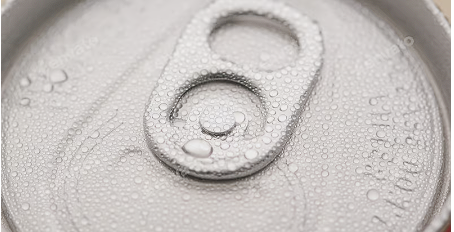Intacto: (2, 1, 454, 232)
